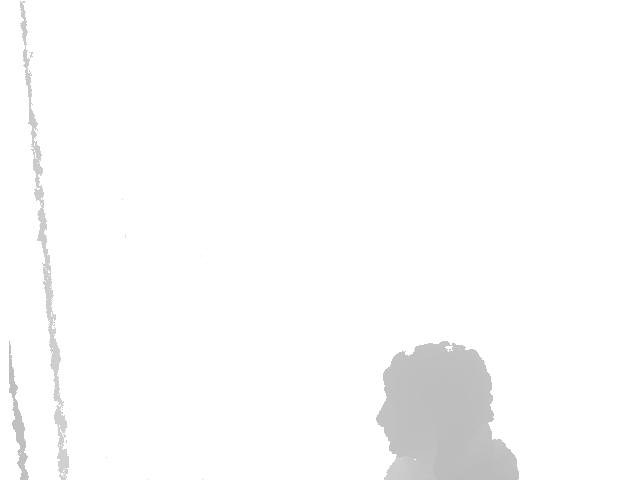head: (376, 341, 495, 457)
person: (375, 341, 521, 480)
